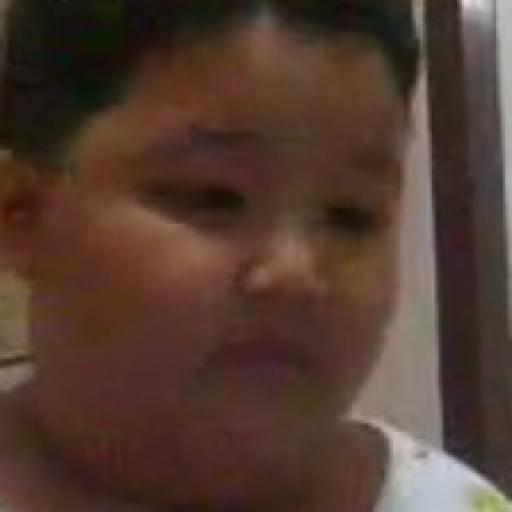Autism: (0, 0, 416, 473)
